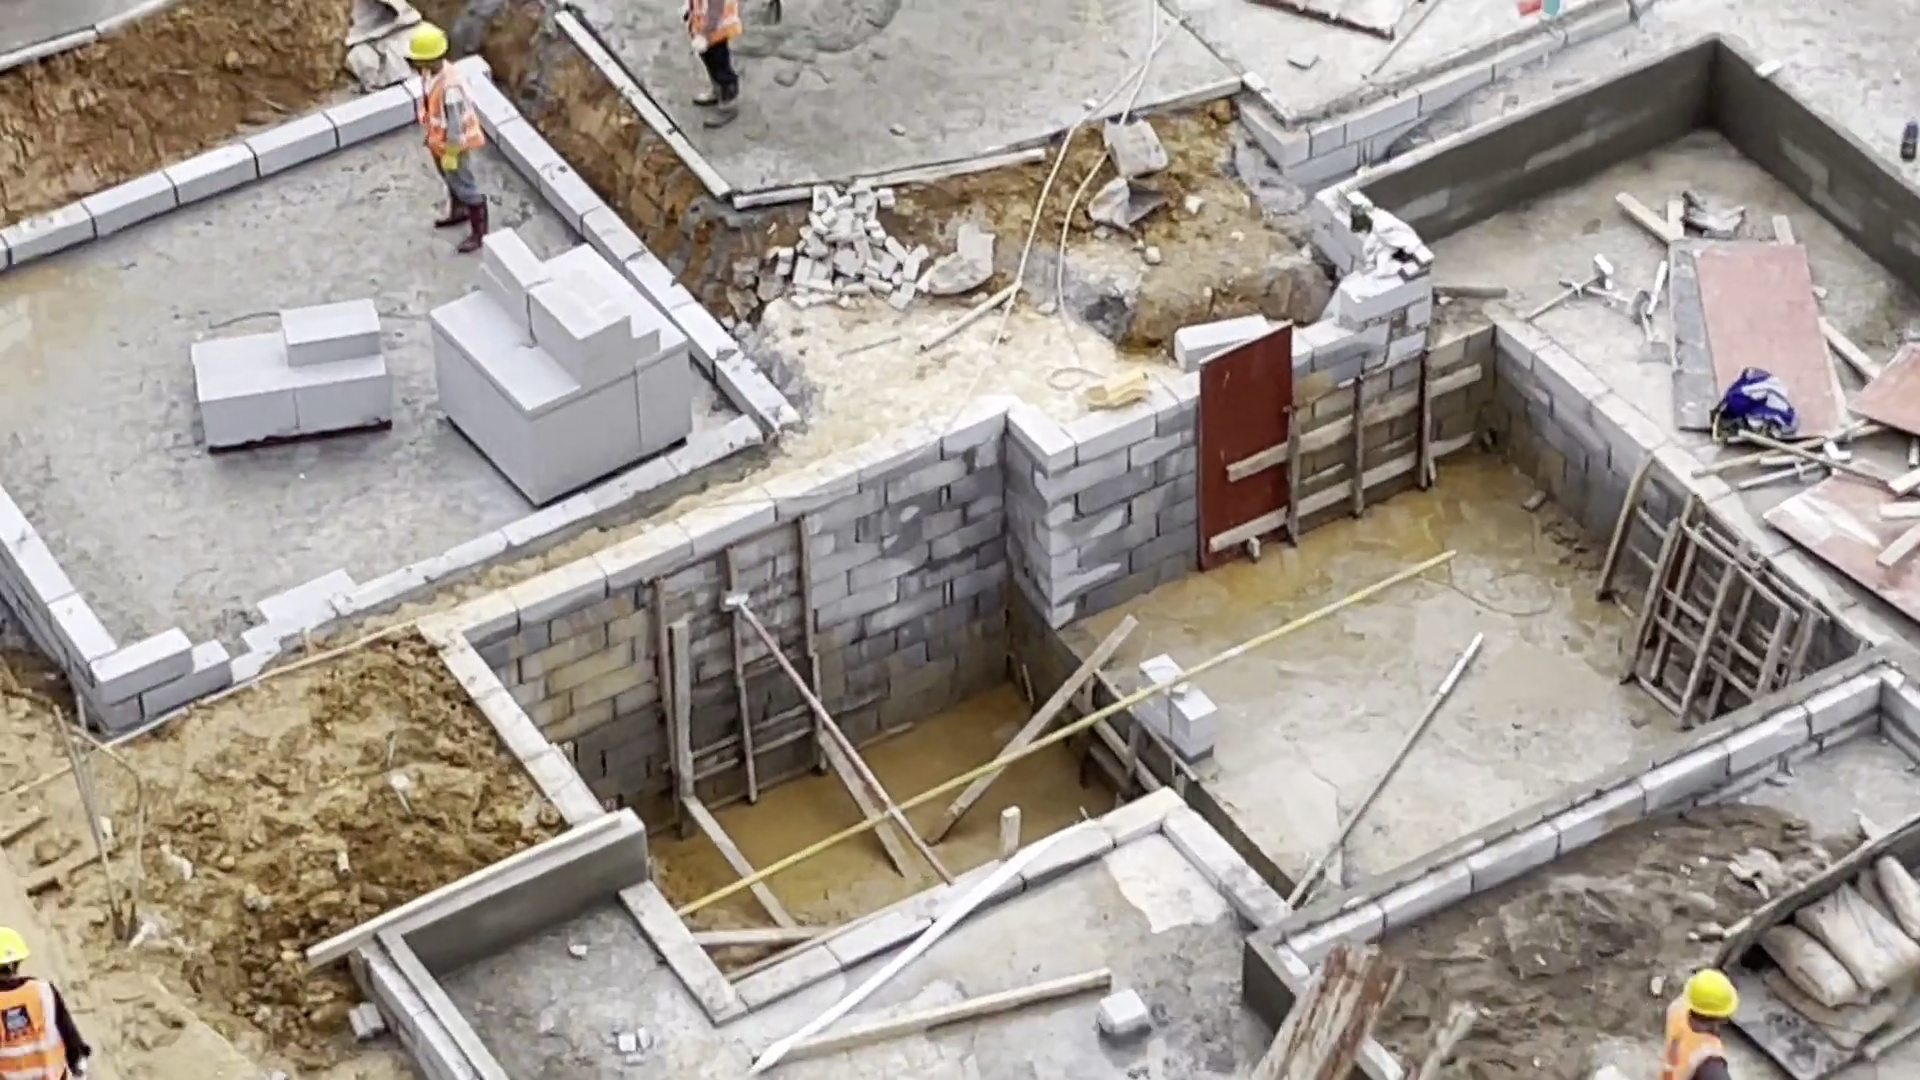brick: (410, 205, 714, 493), (177, 283, 404, 457)
helmet: (1684, 963, 1738, 1013), (1, 926, 34, 969), (403, 24, 442, 61)
person: (397, 17, 500, 256), (1, 924, 96, 1074), (673, 1, 762, 134), (1655, 965, 1742, 1080)
vest: (4, 972, 69, 1080), (417, 71, 482, 163), (1671, 1016, 1719, 1080), (684, 1, 741, 49)
